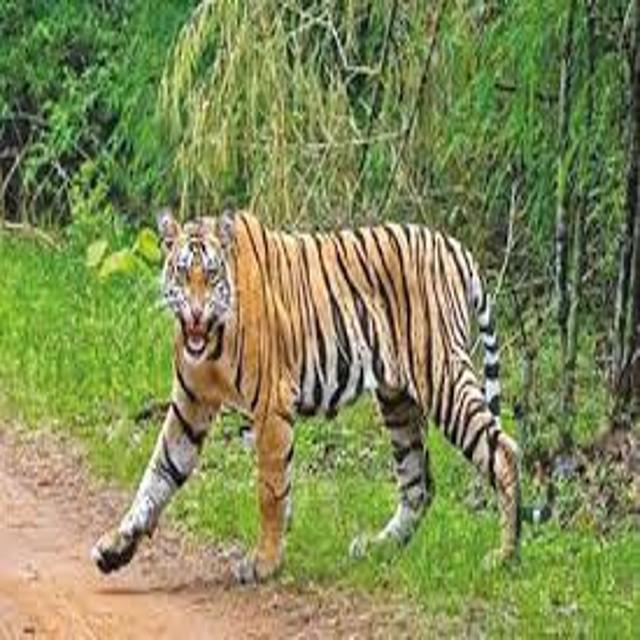tiger: (76, 181, 554, 611)
